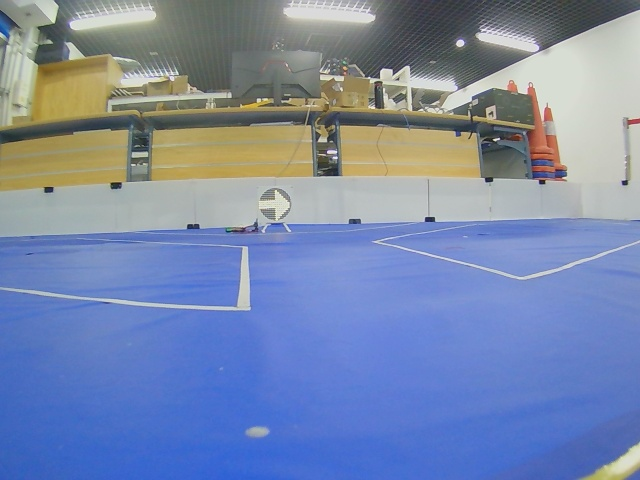right_yellow: (258, 188, 292, 222)
